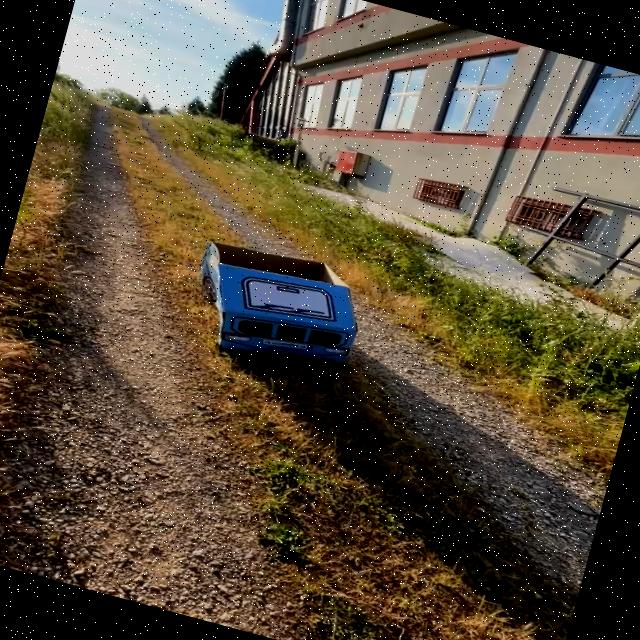blue_car: (137, 190, 422, 425)
